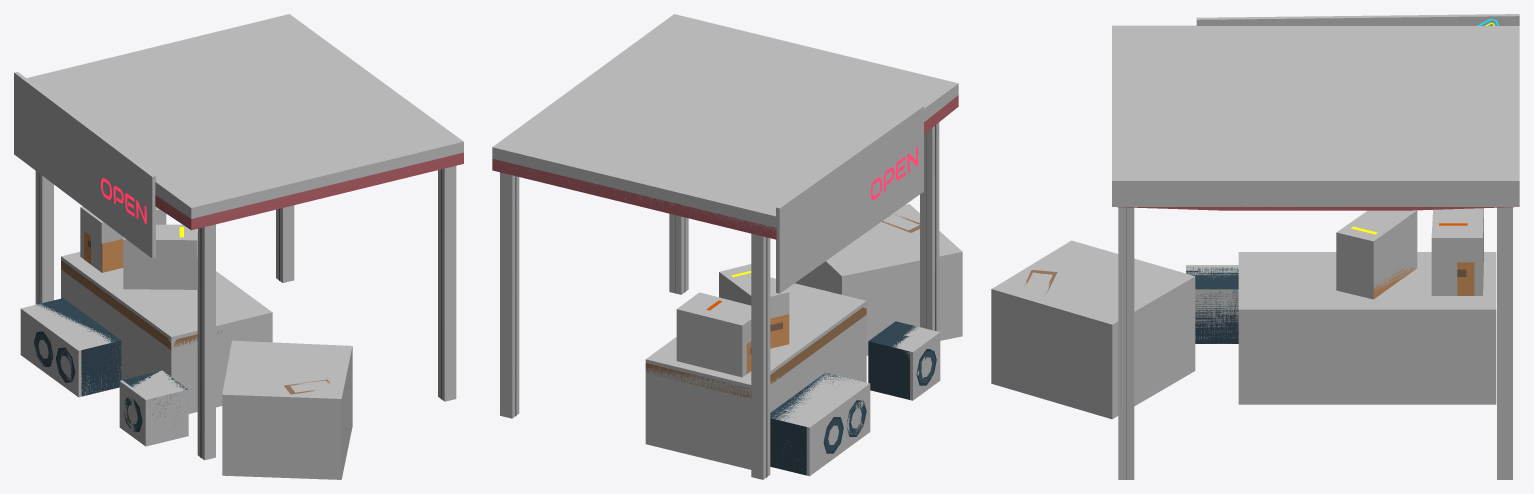
File: SM_Market_Music.fbx
3 views of the same model, side by side, from view 1: azimuth 30°, elevation 25°; view 2: azimuth 150°, elevation 25°; view 3: azimuth 270°, elevation 25° (orthographic). The views are drawn at different scales.
Visible parts, largest first — view 1: SM_Market_Music_ConvexHulls, SM_Market_Music; view 2: SM_Market_Music_ConvexHulls, SM_Market_Music; view 3: SM_Market_Music_ConvexHulls, SM_Market_Music.
Boxes of the visible parts, <box> form: SM_Market_Music_ConvexHulls: <box>14,14,463,479</box>; SM_Market_Music: <box>34,152,463,457</box>; SM_Market_Music_ConvexHulls: <box>492,14,962,479</box>; SM_Market_Music: <box>492,95,958,477</box>; SM_Market_Music_ConvexHulls: <box>991,14,1519,479</box>; SM_Market_Music: <box>1024,18,1513,479</box>.
Bounding box in the file's own units: 279 × 381 × 248.
2 materials, 1 textured.
